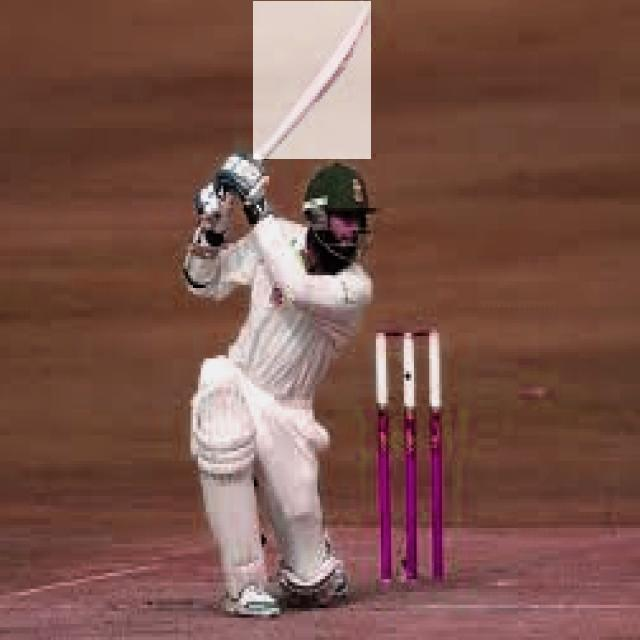bat: (263, 7, 378, 166)
